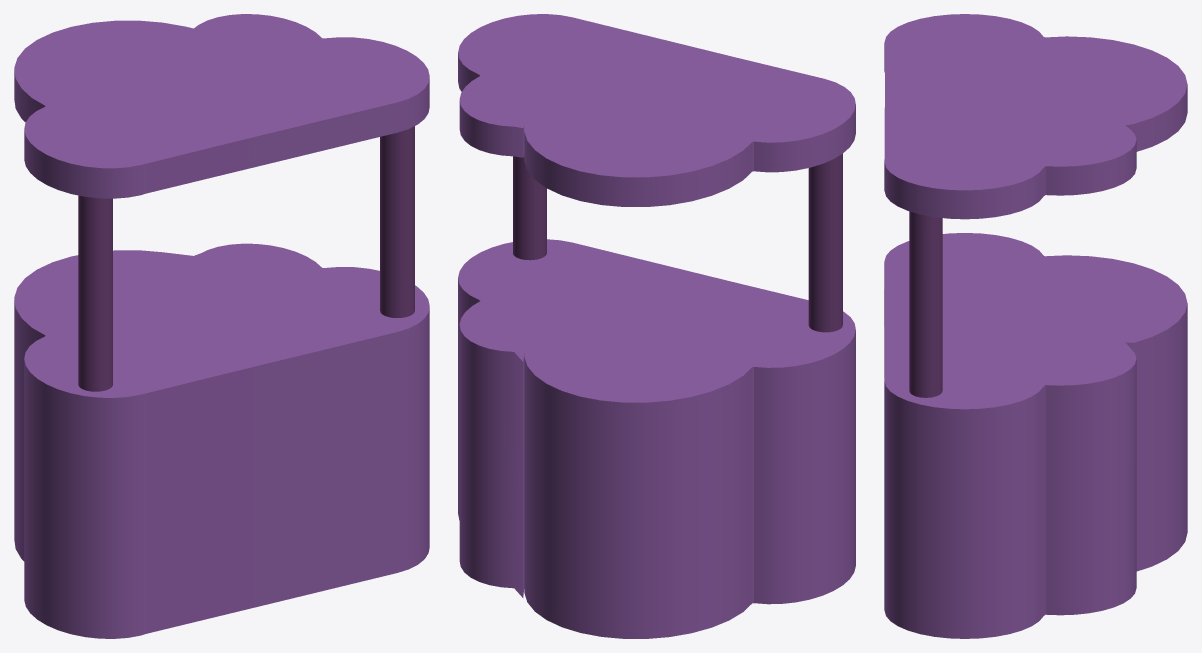
The model's file is event-detal.gltf.
3 renders of one model, left to right at view 1: azimuth 30°, elevation 25°; view 2: azimuth 150°, elevation 25°; view 3: azimuth 270°, elevation 25°, orthographic. The views are drawn at different scales.
Visible parts, largest first — view 1: Circle.004, Circle.003, Cylinder, Cylinder.001; view 2: Circle.004, Circle.003, Cylinder, Cylinder.001; view 3: Circle.004, Circle.003, Cylinder.001.
Boxes of the visible parts, box(x1,y1,x2,y2) form: Circle.004: box(14, 243, 429, 638); Circle.003: box(14, 14, 429, 198); Cylinder: box(78, 195, 112, 391); Cylinder.001: box(380, 126, 414, 317); Circle.004: box(458, 239, 855, 638); Circle.003: box(458, 14, 855, 206); Cylinder: box(808, 153, 842, 332); Cylinder.001: box(513, 156, 546, 260); Circle.004: box(884, 233, 1187, 638); Circle.003: box(884, 14, 1187, 219); Cylinder.001: box(909, 211, 942, 397).
Bounding box in the file's own units: 5.82 × 7.05 × 4.23.
2 materials, 2 textured.
